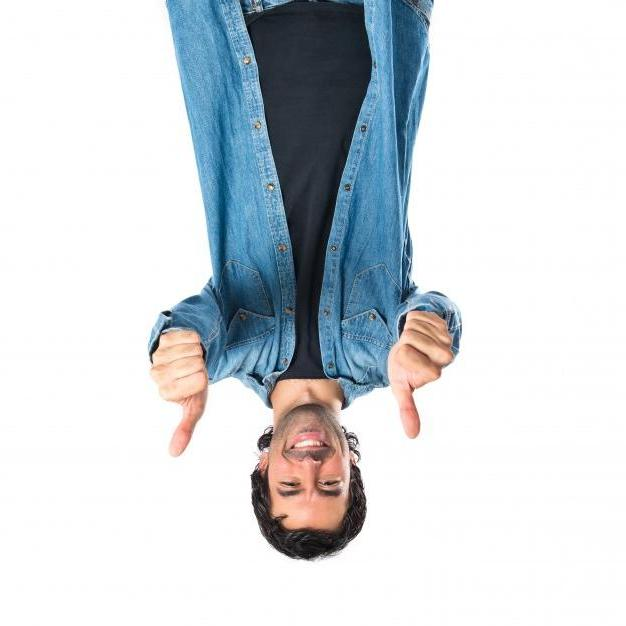thumbsdown: (395, 311, 455, 439), (150, 329, 208, 458)
